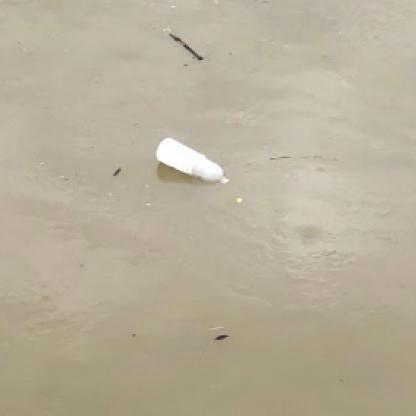Trash: (152, 136, 233, 190)
